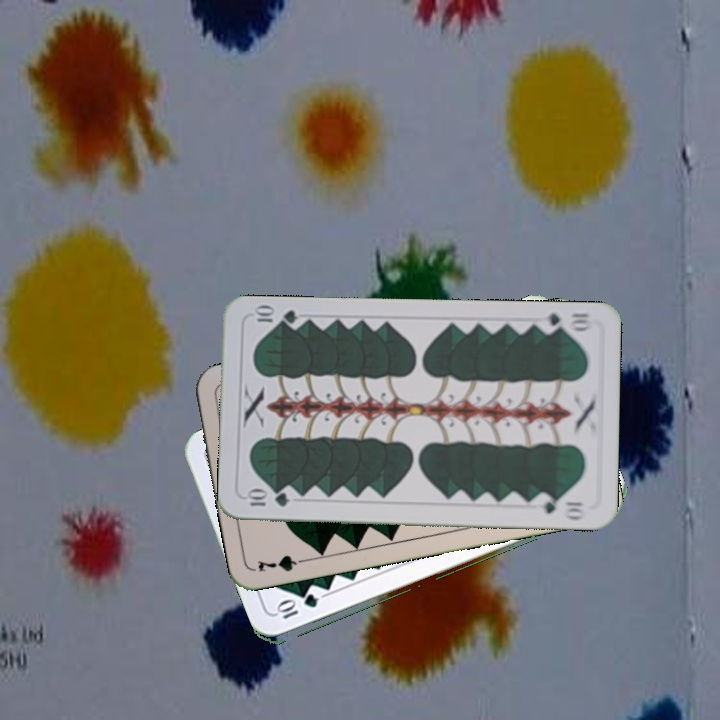G10: (536, 308, 595, 335), (273, 592, 321, 622), (242, 488, 291, 509)
G7: (253, 551, 312, 575)
